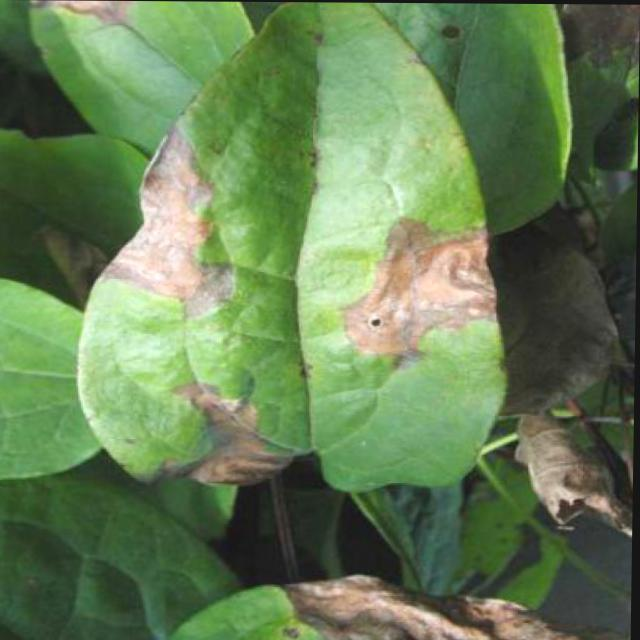Tomato late blight leaf: (70, 2, 506, 504)
